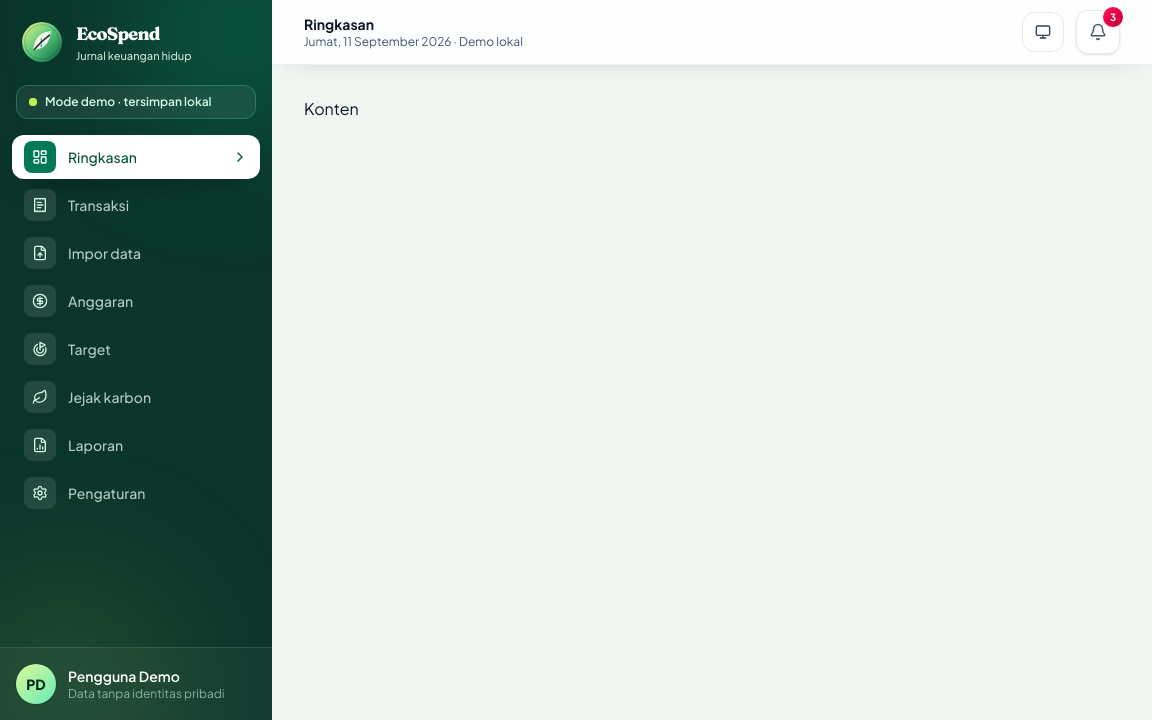
it: AppShell notifications › opens real in-app notifications and clears the unread badge
Click the button named "Notifikasi, 3 belum dibaca": x=1098, y=32 1076,10 -> 1120,54
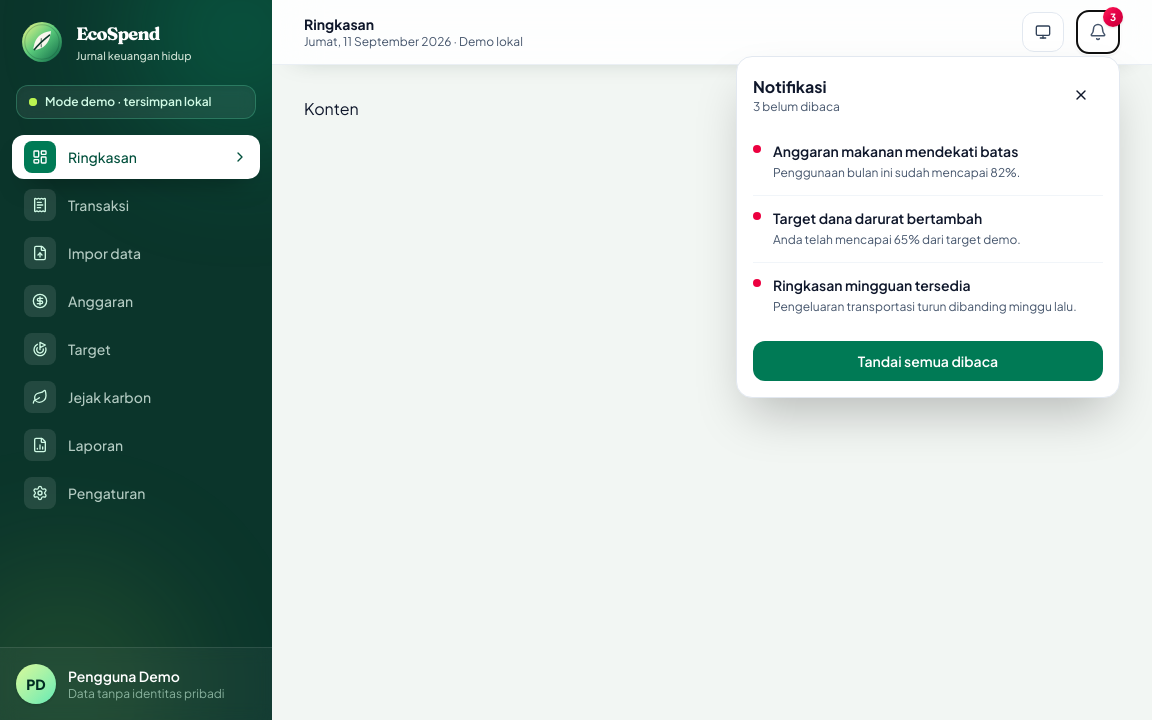
Result: the element named "Panel notifikasi" is shown at 736,56 -> 1120,398
Result: the text "Anggaran makanan mendekati batas" is shown at 773,141 -> 1020,161
Click the button "Tandai semua dibaca": x=928, y=361 753,341 -> 1103,381
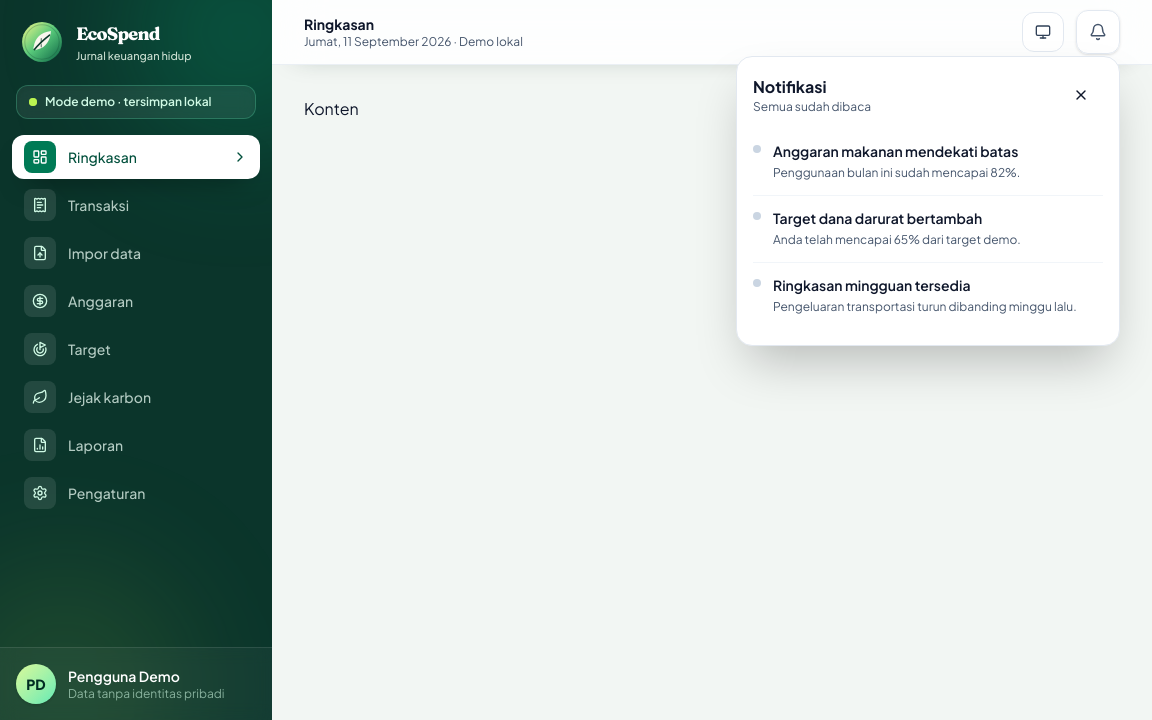
Result: the button named "Notifikasi, 0 belum dibaca" is shown at 1076,10 -> 1120,54
Result: the button "Tandai semua dibaca" is gone
